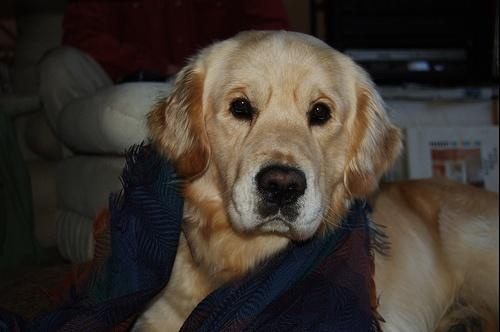dog: (134, 27, 500, 331)
sofa: (14, 44, 200, 268)
